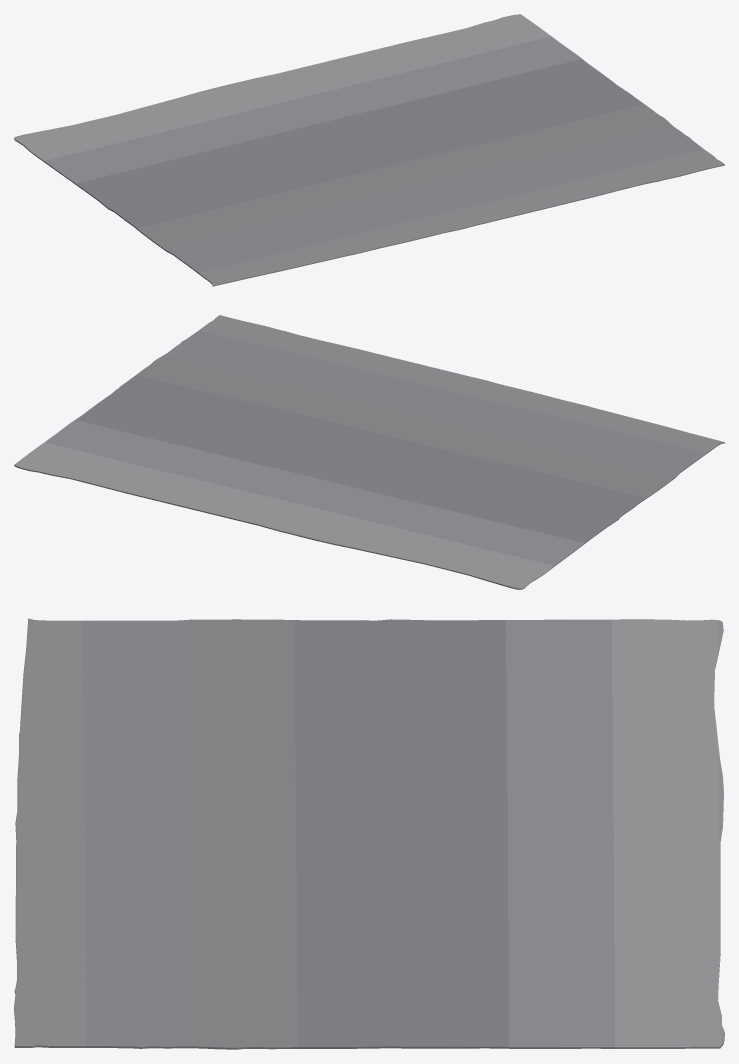
The model's file is carpet_6.glb.
3 views of the same model, one above another, from view 1: azimuth 30°, elevation 25°; view 2: azimuth 150°, elevation 25°; view 3: azimuth 270°, elevation 25° (orthographic). The views are drawn at different scales.
Visible parts, largest first — view 1: root; view 2: root; view 3: root.
Part boxes in pixels (bbox=[...]): root: bbox=[14, 14, 724, 286]; root: bbox=[14, 315, 724, 589]; root: bbox=[14, 618, 724, 1049].
Bounding box in the file's own units: 2 × 0.005 × 1.4.
Materials: 2 (1 with a texture image).
